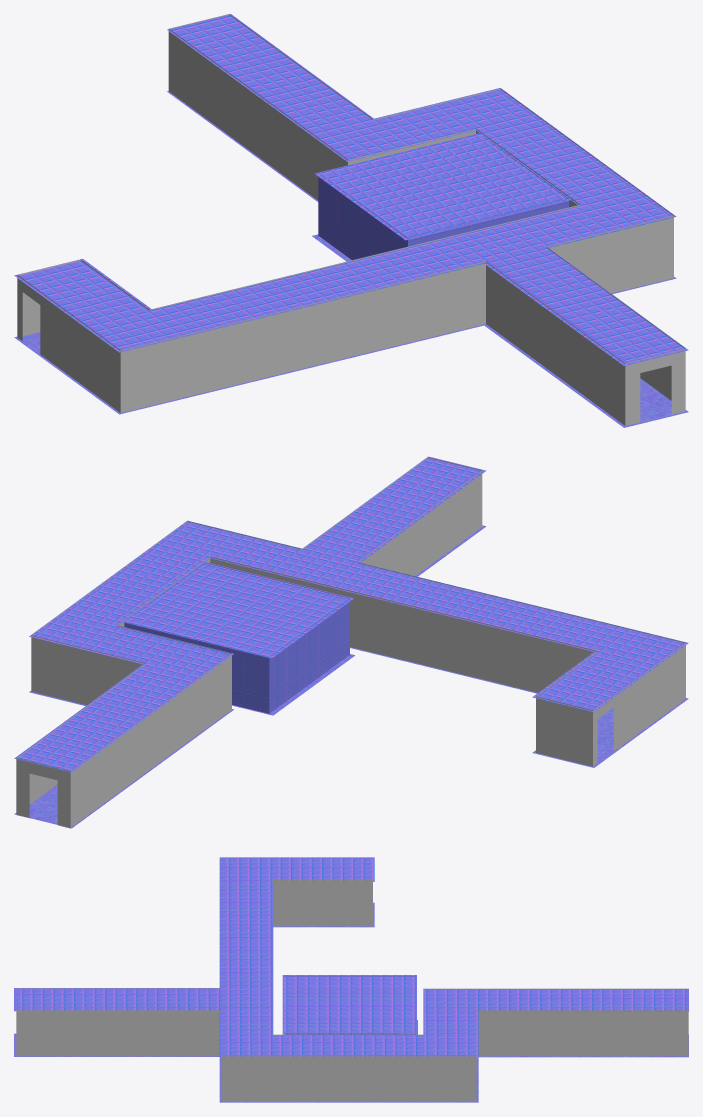
The model's file is starting_room.fbx.
3 views of the same model, one above another, from view 1: azimuth 30°, elevation 25°; view 2: azimuth 150°, elevation 25°; view 3: azimuth 270°, elevation 25° (orthographic). The views are drawn at different scales.
Parts seen in each view (by area): view 1: Cube.003; view 2: Cube.003; view 3: Cube.003.
Part boxes in pixels (x1=…): Cube.003: x1=14, y1=14, x2=688, y2=427; Cube.003: x1=14, y1=456, x2=688, y2=828; Cube.003: x1=14, y1=857, x2=688, y2=1102.
Size of the model in its own units: 2803 by 306 by 3999.
